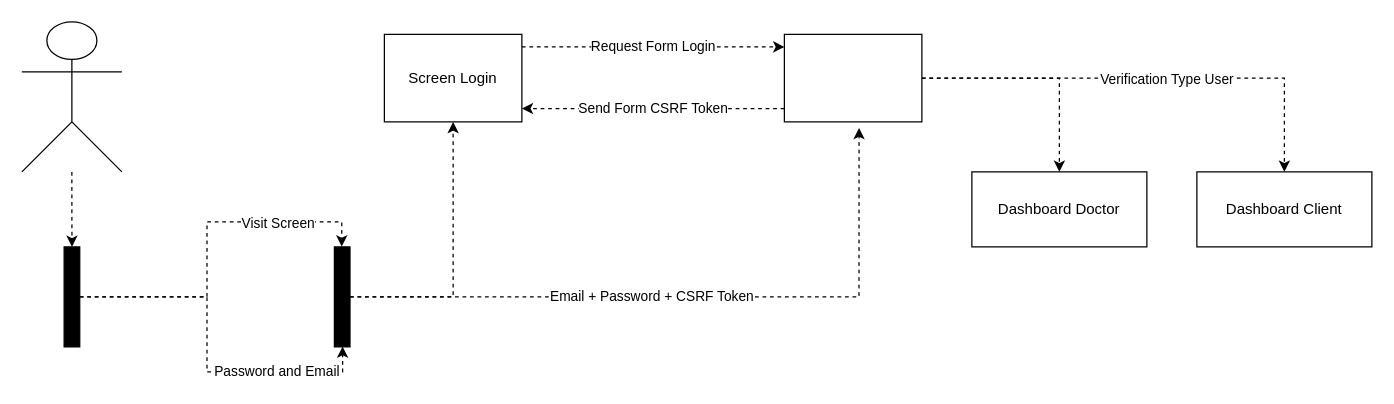
Some shapes in this 1394 by 404 pixel diagram are drawn without their labels. Each missing label, with the centre of its shape:
"Server" belongs at (x=852, y=77).
"User" belongs at (x=71, y=96).
